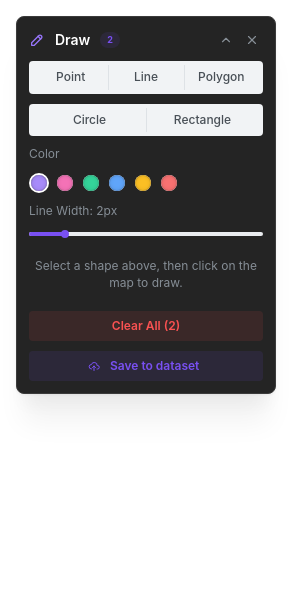
Test: the draw panel commits drawn shapes to a branch › keeps the shapes when the commit is refused
This screenshot has width=292, height=604.
Step 1. Click the button with test id "draw-save-open" → (146, 366), box [29,351,263,381]
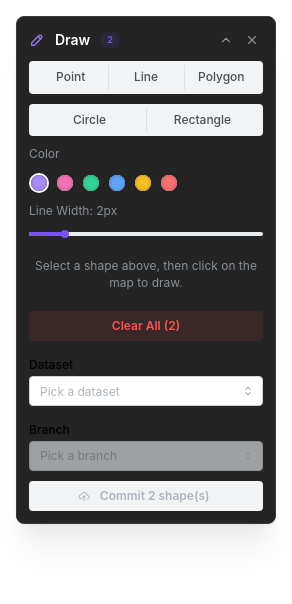
Step 2. Click the field with placeholder "Pick a dataset" → (146, 391), box [29,376,263,406]
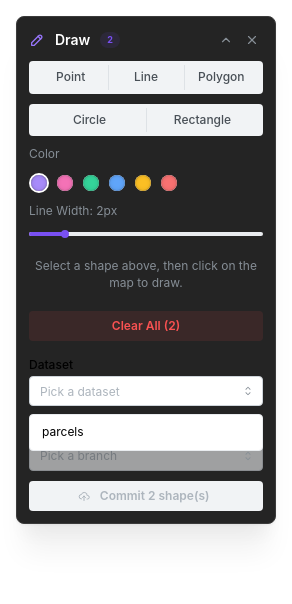
Step 3. Click the option "parcels" → (63, 432), box [42,424,84,439]
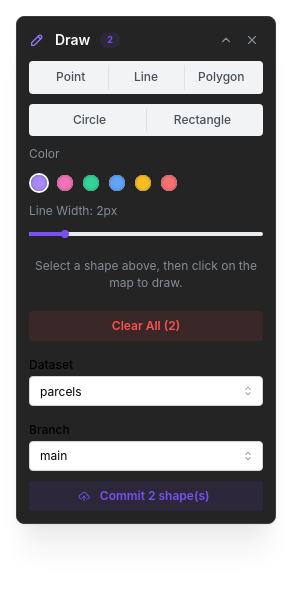
Expected: the field showing "main" is shown, [29,441,263,471]
Step 4. Click the button with test id "draw-save-commit" → (146, 496), box [29,481,263,511]
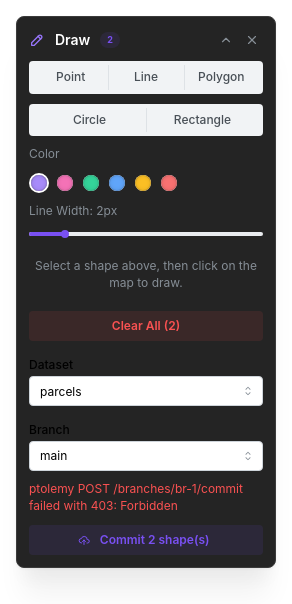
Expected: the text "403" is shown, [29,481,243,513]
